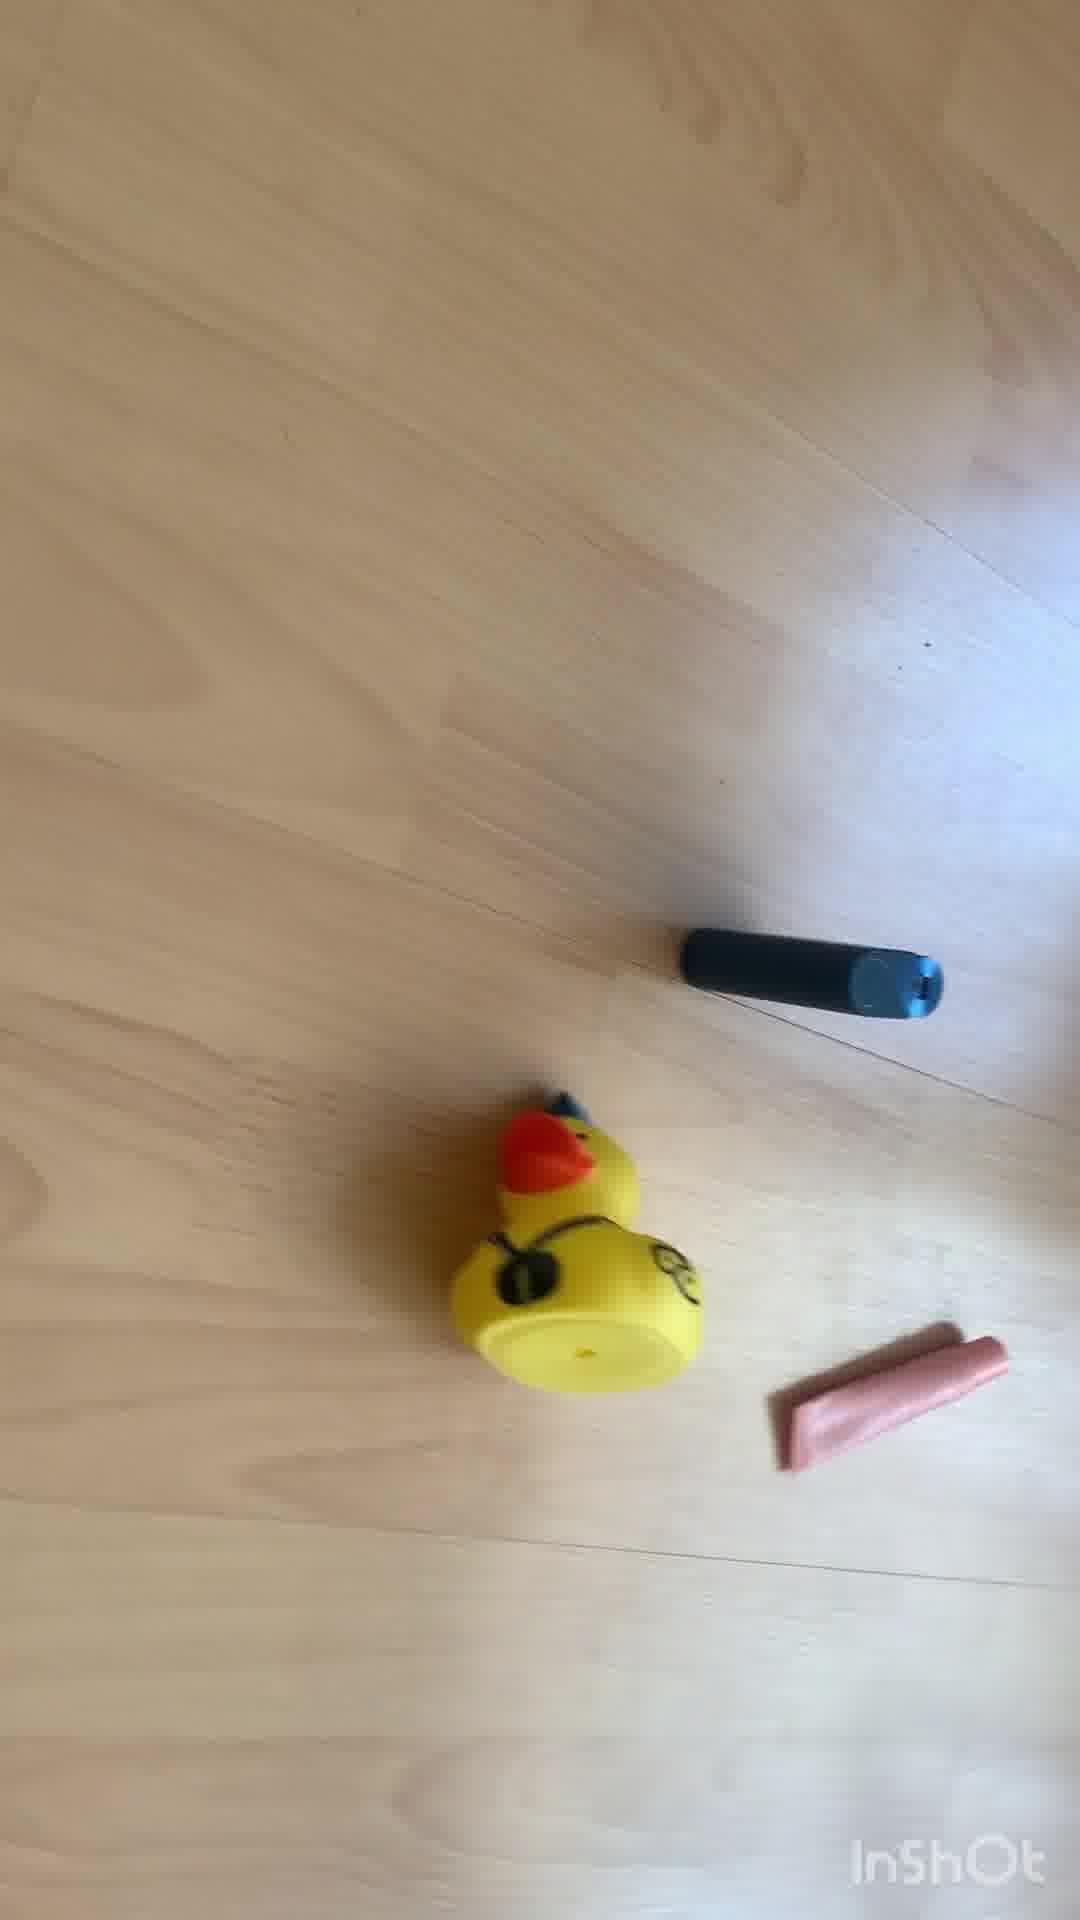duck: (451, 1075, 705, 1411)
glo: (674, 923, 969, 1015)
lip balm: (781, 1323, 1013, 1477)
